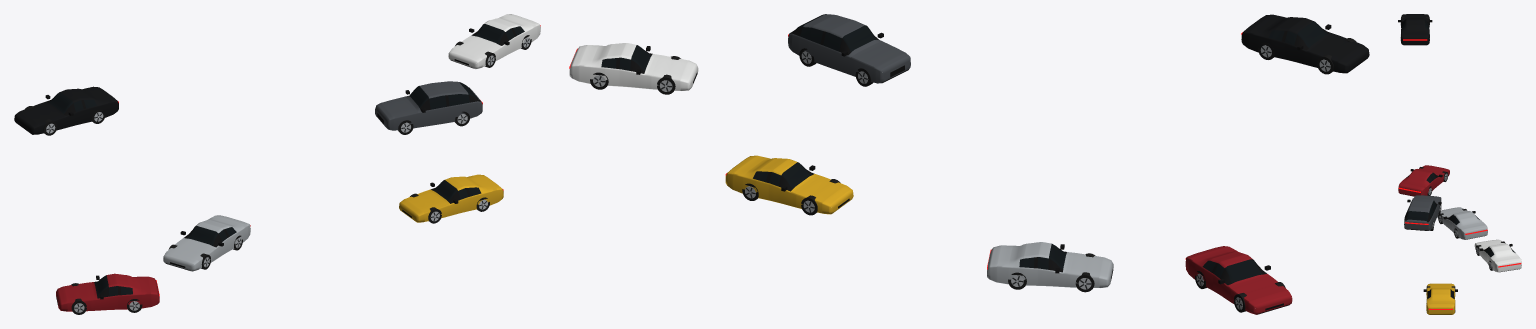
Rendered from porsche_showroom_placeholder_cars.glb.
The picture shows the model from 3 angles, left to right: view 1: azimuth 30°, elevation 25°; view 2: azimuth 150°, elevation 25°; view 3: azimuth 270°, elevation 25°; orthographic projection. The views are drawn at different scales.
Visible parts, largest first — view 1: P03_CAR_04_Crossover_CarPaintGraphite, P03_CAR_01_Coupe_CarPaintRed, P03_CAR_03_Coupe_CarPaintYellow, P03_CAR_06_Coupe_CarPaintBlack, P03_CAR_05_Coupe_CarPaintWhite, P03_CAR_02_Coupe_CarPaintSilver; view 2: P03_CAR_04_Crossover_CarPaintGraphite, P03_CAR_05_Coupe_CarPaintWhite, P03_CAR_02_Coupe_CarPaintSilver, P03_CAR_06_Coupe_CarPaintBlack, P03_CAR_03_Coupe_CarPaintYellow, P03_CAR_01_Coupe_CarPaintRed; view 3: P03_CAR_02_Coupe_CarPaintSilver, P03_CAR_01_Coupe_CarPaintRed, P03_CAR_04_Crossover_CarPaintGraphite, P03_CAR_05_Coupe_CarPaintWhite, P03_CAR_03_Coupe_CarPaintYellow, P03_CAR_06_Coupe_CarPaintBlack.
Boxes of the visible parts, x1,y1,x2,y2 form: P03_CAR_04_Crossover_CarPaintGraphite: (375, 81, 482, 134); P03_CAR_01_Coupe_CarPaintRed: (56, 273, 159, 314); P03_CAR_03_Coupe_CarPaintYellow: (399, 174, 503, 223); P03_CAR_06_Coupe_CarPaintBlack: (14, 86, 118, 135); P03_CAR_05_Coupe_CarPaintWhite: (448, 14, 540, 69); P03_CAR_02_Coupe_CarPaintSilver: (163, 215, 250, 271); P03_CAR_04_Crossover_CarPaintGraphite: (788, 14, 910, 86); P03_CAR_05_Coupe_CarPaintWhite: (569, 43, 698, 94); P03_CAR_02_Coupe_CarPaintSilver: (987, 242, 1113, 292); P03_CAR_06_Coupe_CarPaintBlack: (1241, 14, 1369, 74); P03_CAR_03_Coupe_CarPaintYellow: (725, 155, 853, 215); P03_CAR_01_Coupe_CarPaintRed: (1185, 246, 1292, 314); P03_CAR_02_Coupe_CarPaintSilver: (1437, 207, 1487, 239); P03_CAR_01_Coupe_CarPaintRed: (1398, 165, 1449, 196); P03_CAR_04_Crossover_CarPaintGraphite: (1404, 195, 1441, 230); P03_CAR_05_Coupe_CarPaintWhite: (1474, 239, 1521, 272); P03_CAR_03_Coupe_CarPaintYellow: (1423, 283, 1457, 314); P03_CAR_06_Coupe_CarPaintBlack: (1398, 14, 1432, 45).
Size of the model in its own units: 30.16 by 11.24 by 8.22.
